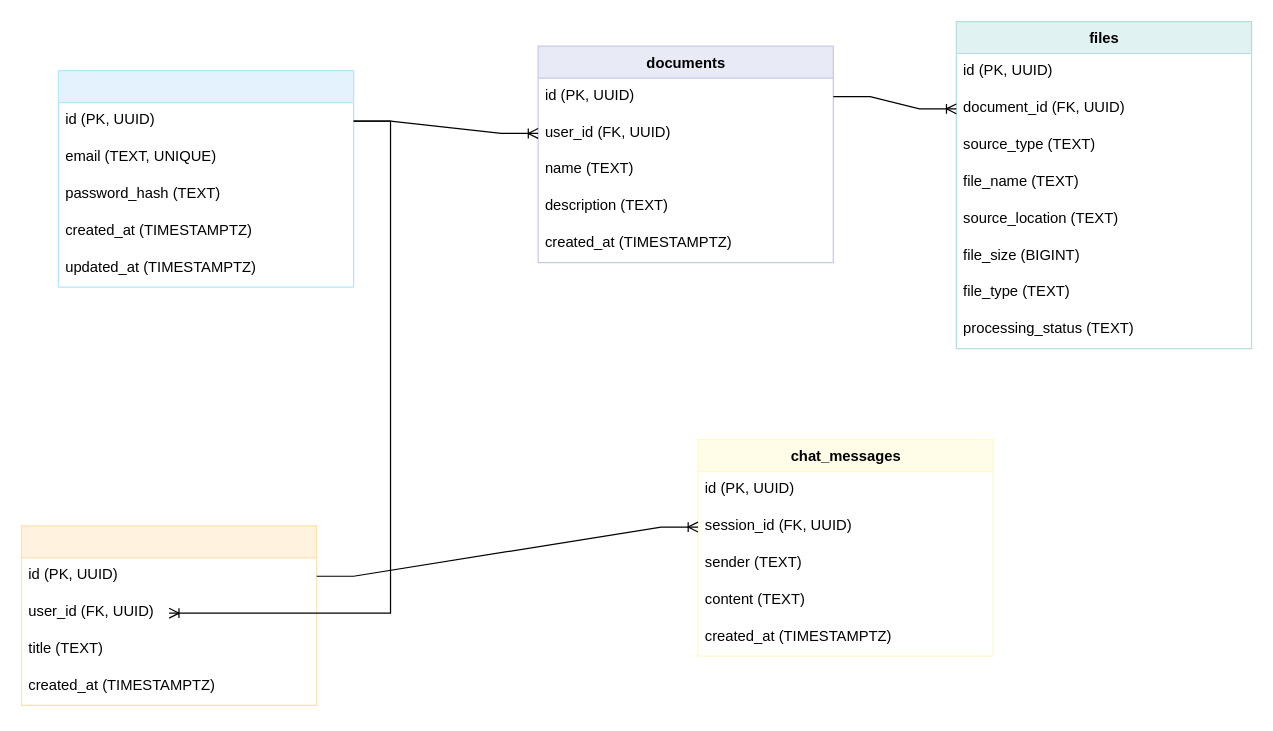
Image size: 1273x731. Some labels were removed from this diagram. Each missing label, with the box of its shape:
chat_sessions: (20, 525, 317, 705)
users: (57, 69, 354, 287)
